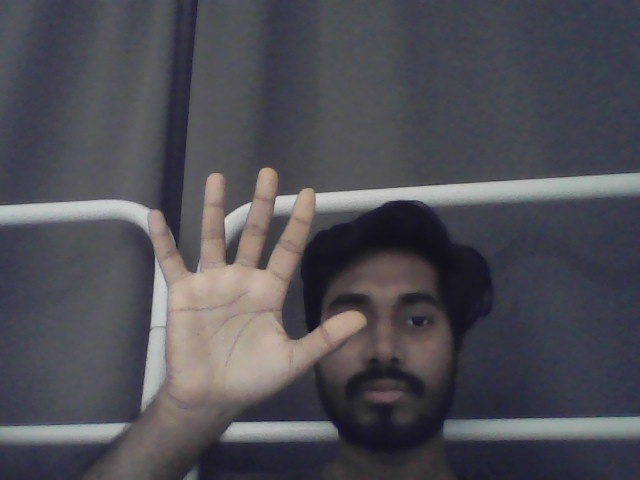hello: (146, 166, 368, 409)
